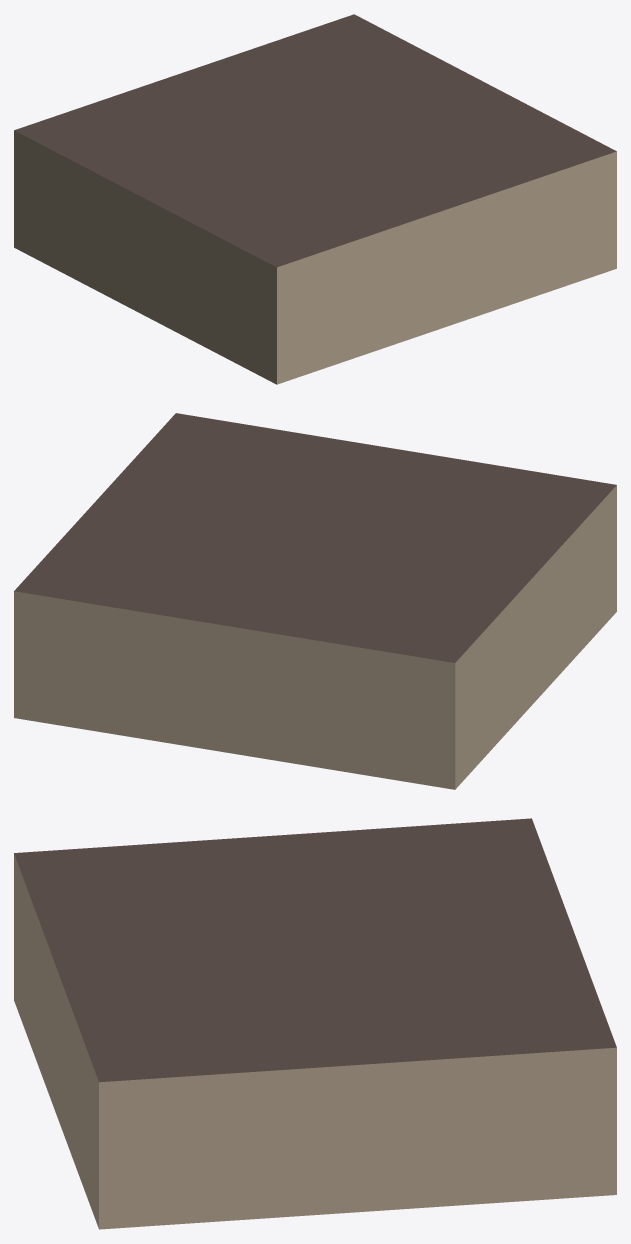
3 renders of one model, top to bottom at view 1: azimuth 30°, elevation 25°; view 2: azimuth 150°, elevation 25°; view 3: azimuth 270°, elevation 25°, orthographic. The views are drawn at different scales.
Visible parts, largest first — view 1: HP-w1286956102; view 2: HP-w1286956102; view 3: HP-w1286956102.
Part boxes in pixels (<box>): HP-w1286956102: <box>14,14,616,384</box>; HP-w1286956102: <box>14,413,616,789</box>; HP-w1286956102: <box>14,818,616,1229</box>.
Size of the model in its own units: 34.58 by 9 by 33.4.
